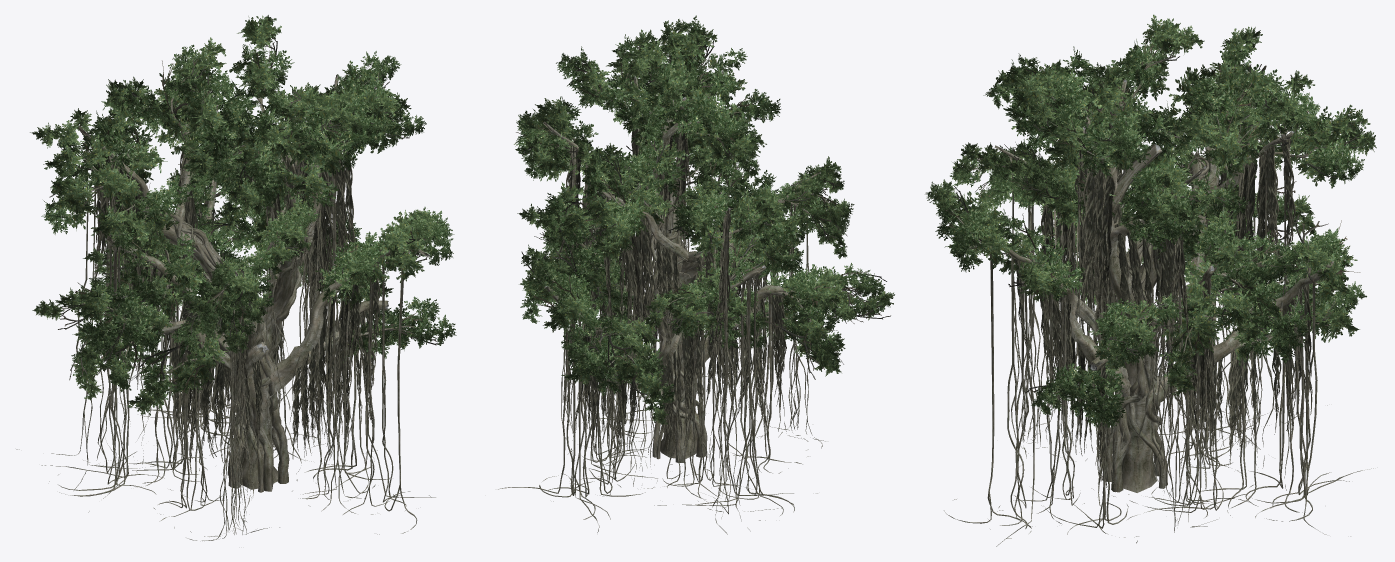
File: fig_tree.glb
3 views of the same model, side by side, from view 1: azimuth 30°, elevation 25°; view 2: azimuth 150°, elevation 25°; view 3: azimuth 270°, elevation 25° (orthographic). The views are drawn at different scales.
Visible parts, largest first — view 1: ChineseBanyan_Med_BanyanTreeLeaves_2_0, ChineseBanyan_Med_BanyanTreeLeaves_1_0, ChineseBanyan_Med_BanyanTreeBark_0, ChineseBanyan_Med_Vines_01_0, ChineseBanyan_Med_Branches_03_0; view 2: ChineseBanyan_Med_BanyanTreeLeaves_1_0, ChineseBanyan_Med_BanyanTreeLeaves_2_0, ChineseBanyan_Med_BanyanTreeBark_0, ChineseBanyan_Med_Vines_01_0, ChineseBanyan_Med_Branches_03_0; view 3: ChineseBanyan_Med_BanyanTreeLeaves_1_0, ChineseBanyan_Med_BanyanTreeLeaves_2_0, ChineseBanyan_Med_BanyanTreeBark_0, ChineseBanyan_Med_Vines_01_0, ChineseBanyan_Med_Branches_03_0.
Boxes of the visible parts, x1=… form: ChineseBanyan_Med_BanyanTreeLeaves_2_0: x1=30, y1=15, x2=441, y2=415; ChineseBanyan_Med_BanyanTreeLeaves_1_0: x1=41, y1=44, x2=456, y2=396; ChineseBanyan_Med_BanyanTreeBark_0: x1=16, y1=50, x2=437, y2=540; ChineseBanyan_Med_Vines_01_0: x1=94, y1=128, x2=380, y2=473; ChineseBanyan_Med_Branches_03_0: x1=49, y1=38, x2=443, y2=399; ChineseBanyan_Med_BanyanTreeLeaves_1_0: x1=514, y1=15, x2=888, y2=413; ChineseBanyan_Med_BanyanTreeLeaves_2_0: x1=516, y1=19, x2=894, y2=424; ChineseBanyan_Med_BanyanTreeBark_0: x1=498, y1=58, x2=871, y2=534; ChineseBanyan_Med_Vines_01_0: x1=557, y1=99, x2=786, y2=455; ChineseBanyan_Med_Branches_03_0: x1=516, y1=31, x2=890, y2=403; ChineseBanyan_Med_BanyanTreeLeaves_1_0: x1=925, y1=34, x2=1366, y2=428; ChineseBanyan_Med_BanyanTreeLeaves_2_0: x1=929, y1=14, x2=1376, y2=402; ChineseBanyan_Med_BanyanTreeBark_0: x1=944, y1=48, x2=1373, y2=546; ChineseBanyan_Med_Vines_01_0: x1=1014, y1=92, x2=1312, y2=506; ChineseBanyan_Med_Branches_03_0: x1=940, y1=39, x2=1363, y2=415.
Size of the model in its own units: 17.83 by 20.27 by 17.67.
7 materials, 7 textured.
